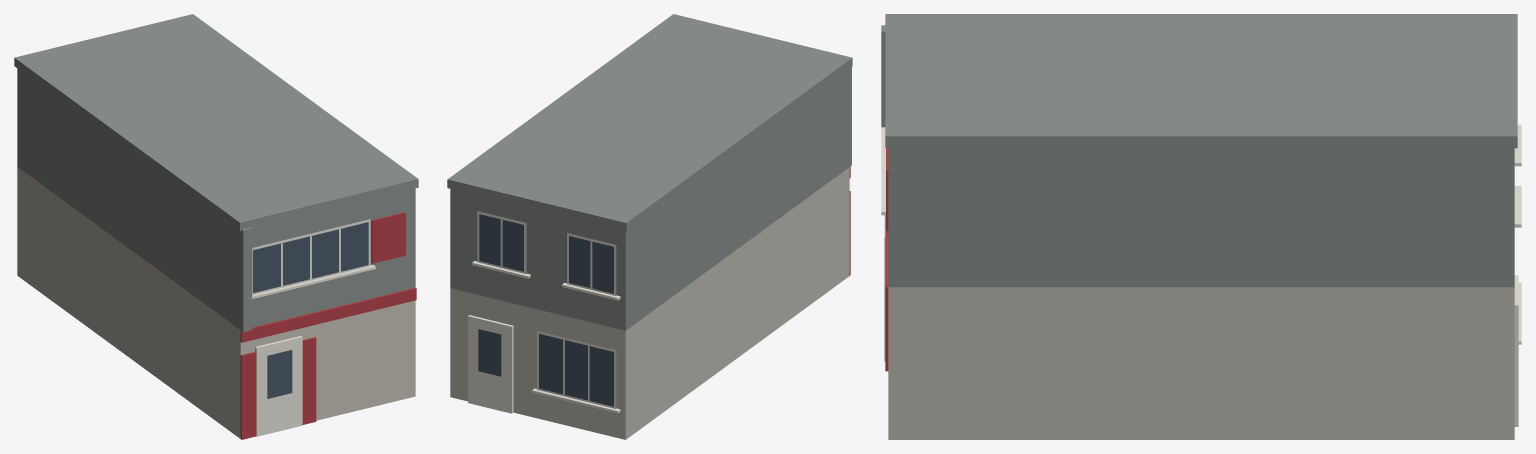
Rendered from zo-kb-patio-ribbon__red__2__flat__long__solid.glb.
The picture shows the model from 3 angles, left to right: view 1: azimuth 30°, elevation 25°; view 2: azimuth 150°, elevation 25°; view 3: azimuth 270°, elevation 25°; orthographic projection. The views are drawn at different scales.
Parts seen in each view (by area): view 1: zo-kb-patio-ribbon__red__2__flat__long__solid; view 2: zo-kb-patio-ribbon__red__2__flat__long__solid; view 3: zo-kb-patio-ribbon__red__2__flat__long__solid.
Boxes of the visible parts, x1,y1,x2,y2 form: zo-kb-patio-ribbon__red__2__flat__long__solid: (14, 14, 418, 439); zo-kb-patio-ribbon__red__2__flat__long__solid: (447, 14, 852, 439); zo-kb-patio-ribbon__red__2__flat__long__solid: (881, 14, 1521, 439).
Size of the model in its own units: 4.79 by 5.57 by 10.61.
